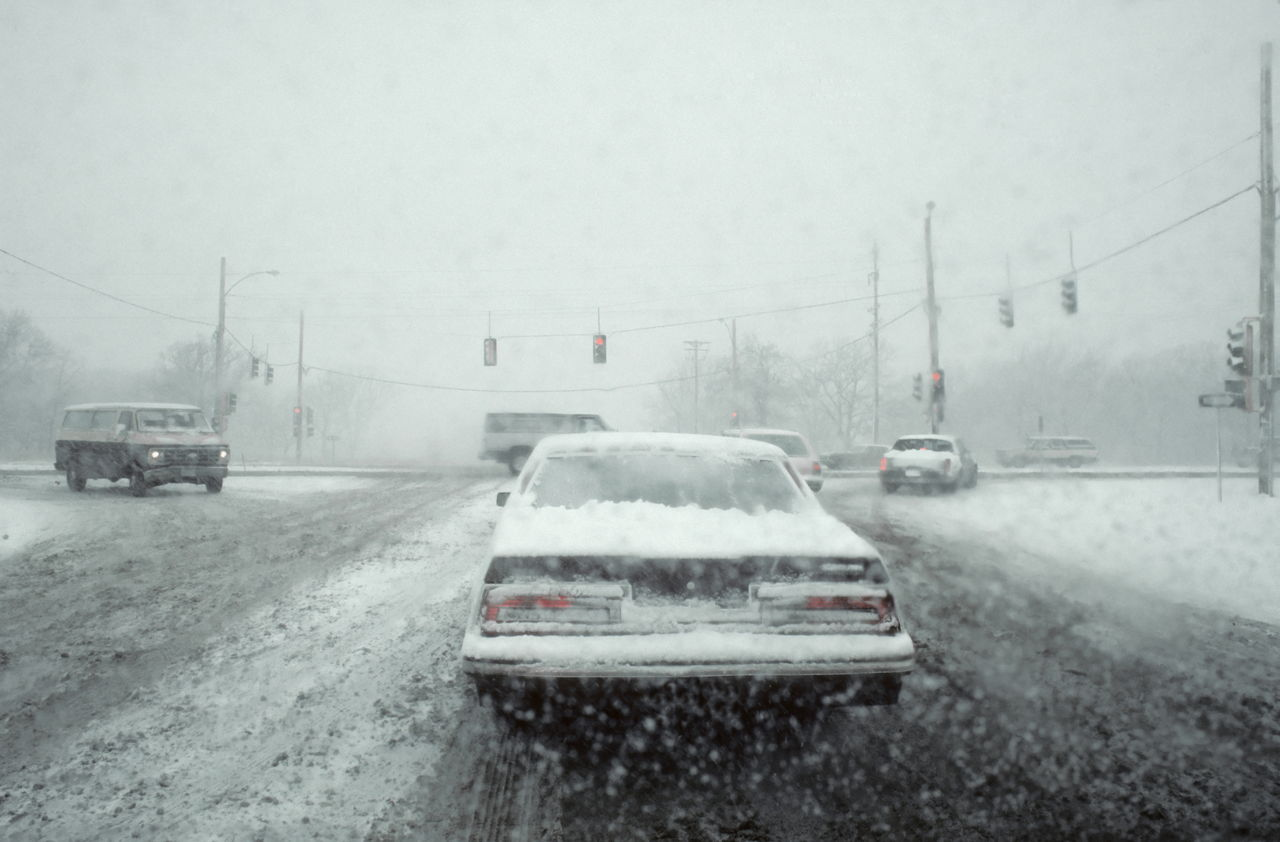car: (461, 434, 914, 732), (53, 403, 233, 499), (880, 432, 981, 500)
traffic light: (589, 330, 613, 368)
